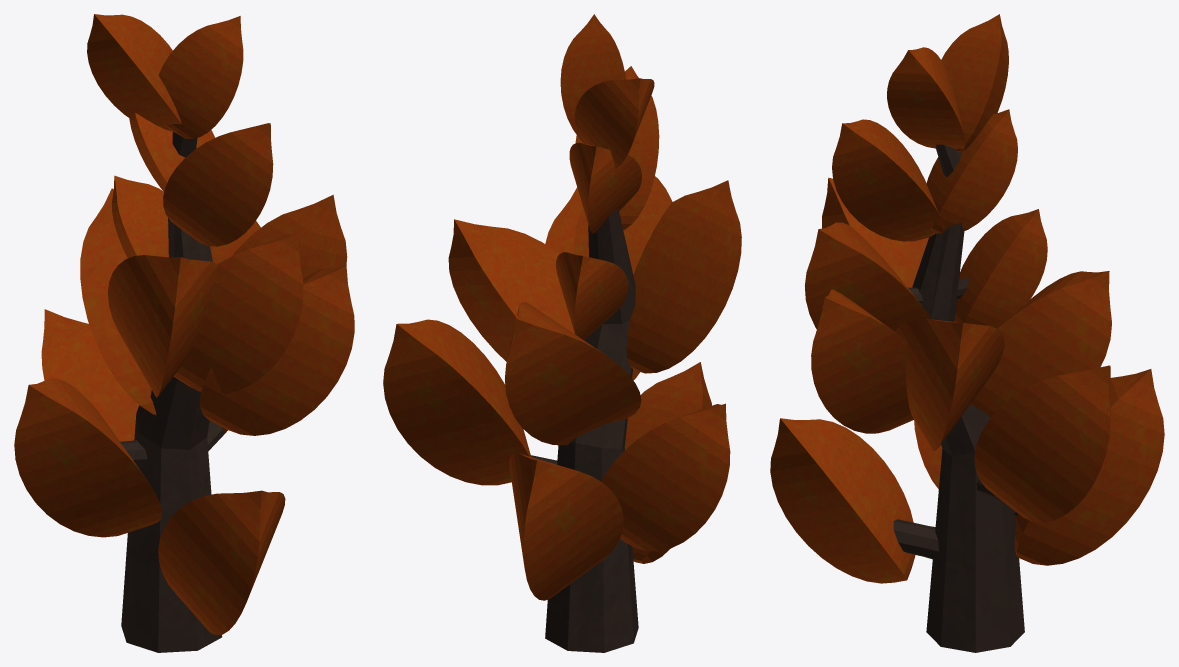
Rendered from tree-green-orange-flowers_5.fbx.
3 renders of one model, left to right at view 1: azimuth 30°, elevation 25°; view 2: azimuth 150°, elevation 25°; view 3: azimuth 270°, elevation 25°, orthographic. The views are drawn at different scales.
Parts seen in each view (by area): view 1: Icosphere.099; view 2: Icosphere.099; view 3: Icosphere.099.
Part boxes in pixels (x1=…): Icosphere.099: x1=14, y1=14, x2=354, y2=652; Icosphere.099: x1=383, y1=14, x2=741, y2=652; Icosphere.099: x1=770, y1=14, x2=1164, y2=652.
Bounding box in the file's own units: 123 × 234 × 140.
